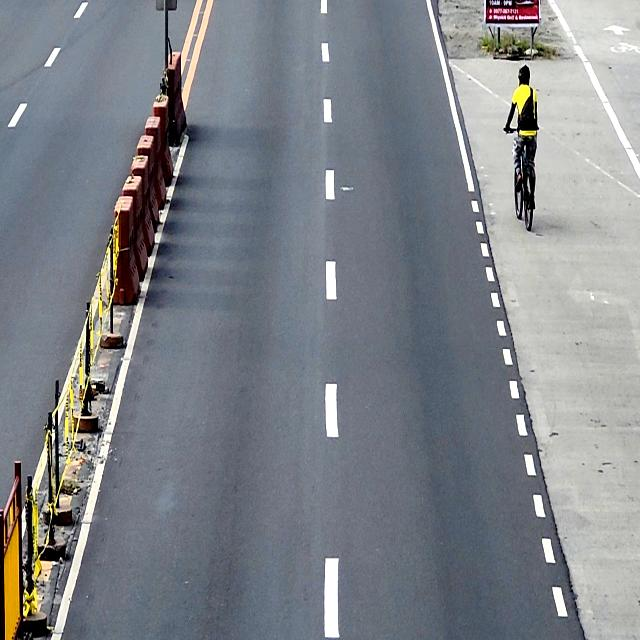Bicycle: (503, 126, 538, 232)
